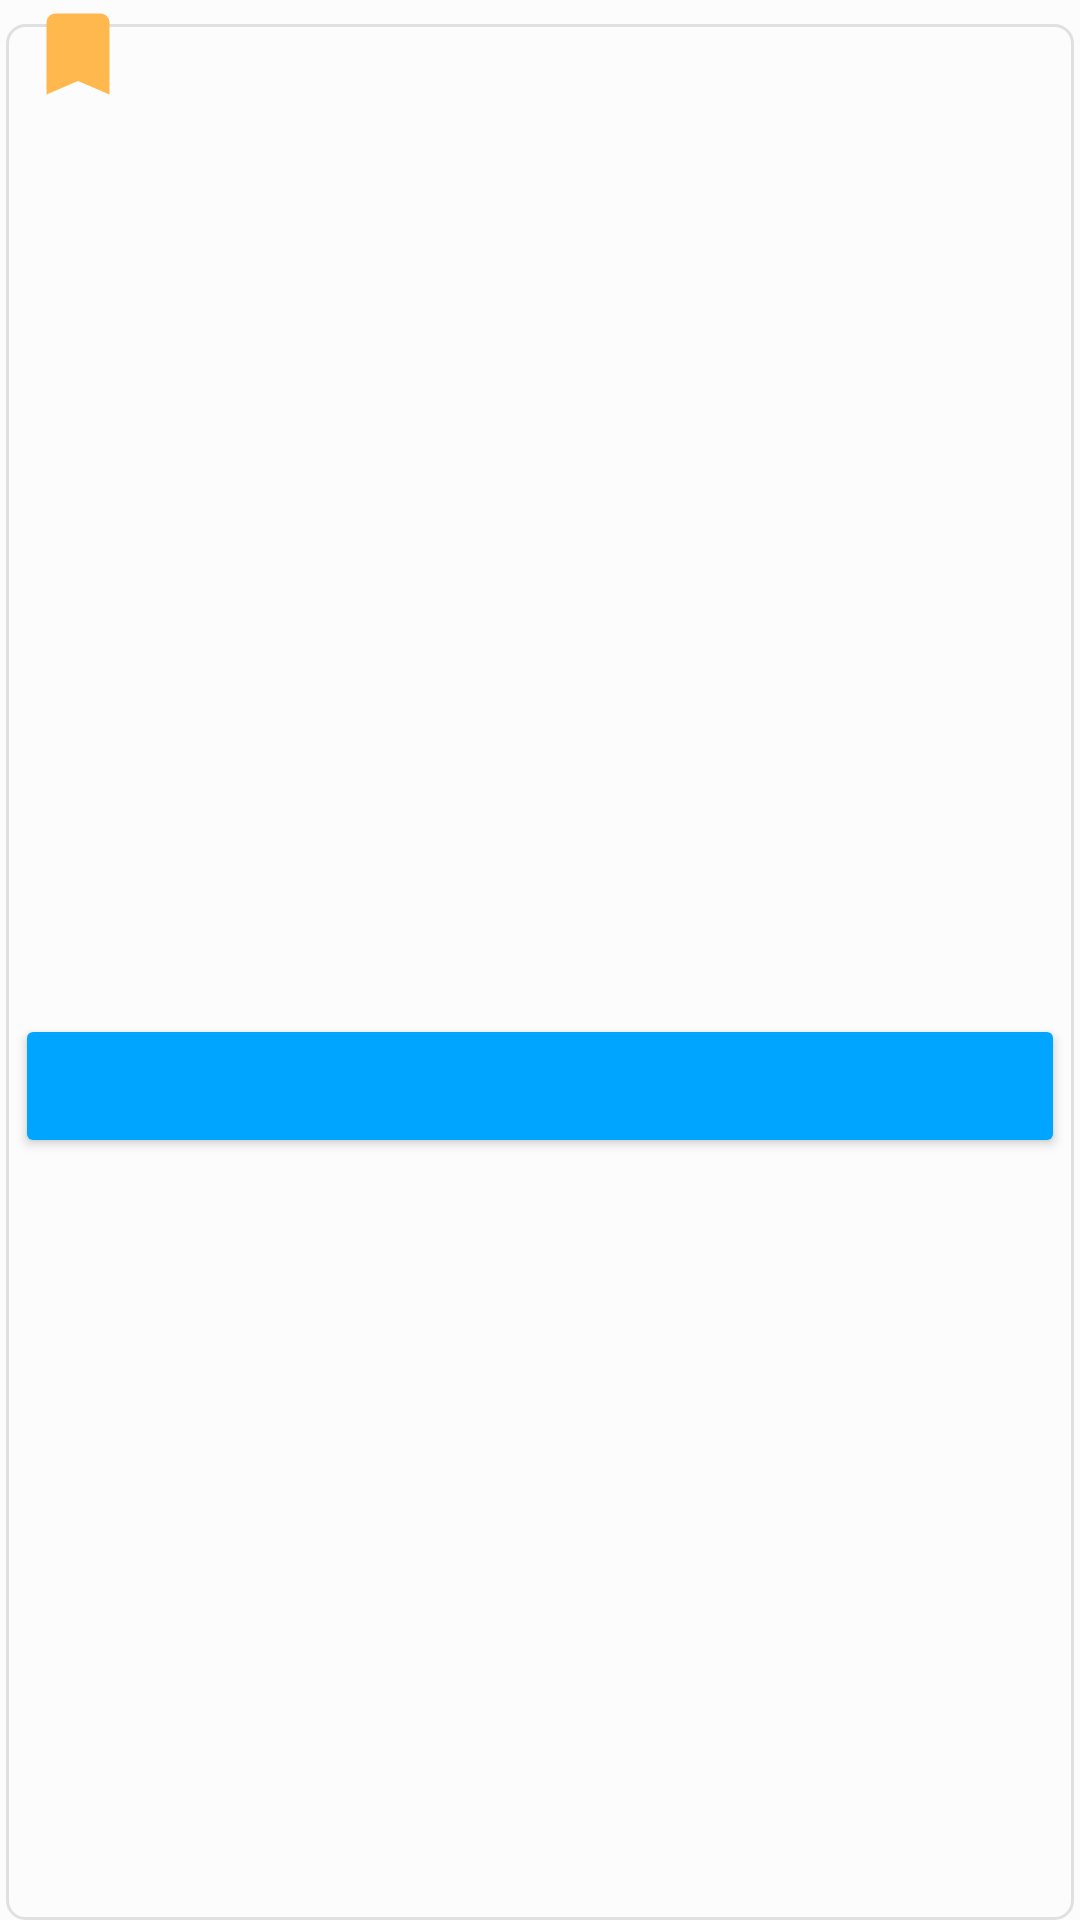

Locate icon controls on the screen. Image size 1080×1920, boxes as bbox(x1, y1, x2, y2).
bookmark: bbox(24, 13, 132, 95)
